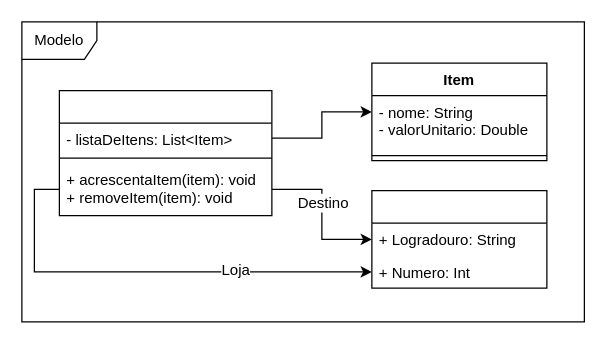
This 606x344 diagram has some shape labels left out. The shapes that lost their labels are listed below. From the top down, each one's box as (x1, y1, x2, y2) in pixels, then its label:
(58, 89, 272, 216): Pedido
(371, 189, 547, 288): Endereco
